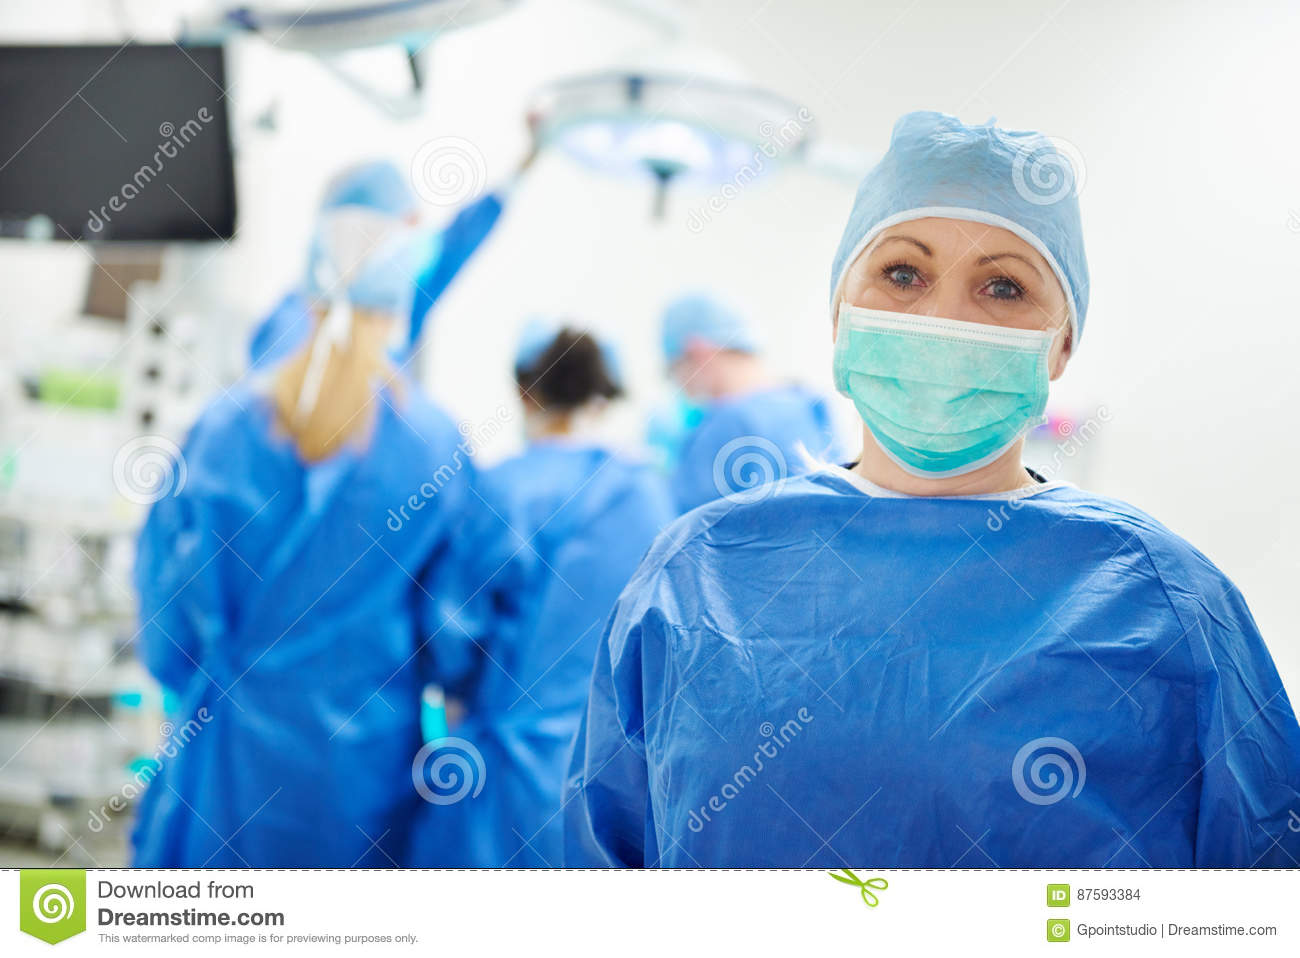mask: (836, 302, 1058, 467)
